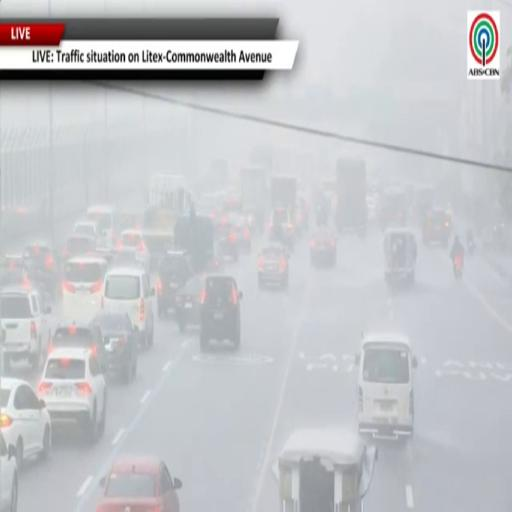car: (355, 333, 417, 439), (39, 347, 106, 442), (96, 456, 182, 511), (0, 377, 51, 467), (102, 267, 154, 348), (0, 288, 51, 370), (93, 310, 137, 385), (200, 276, 242, 350), (50, 320, 107, 372), (62, 256, 107, 319), (156, 251, 193, 317), (24, 242, 59, 298), (175, 276, 204, 332), (0, 254, 43, 291), (0, 431, 18, 511), (117, 230, 150, 271), (258, 245, 288, 289), (86, 205, 116, 247), (144, 230, 173, 270), (423, 208, 451, 247), (269, 206, 295, 246), (310, 231, 336, 267), (63, 234, 96, 261), (217, 222, 239, 261), (231, 215, 251, 253), (0, 267, 32, 289), (116, 212, 142, 234), (72, 219, 100, 239), (113, 247, 140, 266)
jeepney: (278, 428, 377, 511)
motorcycle: (452, 255, 464, 279), (467, 231, 475, 255), (468, 239, 475, 254)
truck: (143, 174, 192, 268), (174, 208, 215, 273), (335, 157, 367, 236), (240, 165, 268, 233), (270, 175, 297, 245)
